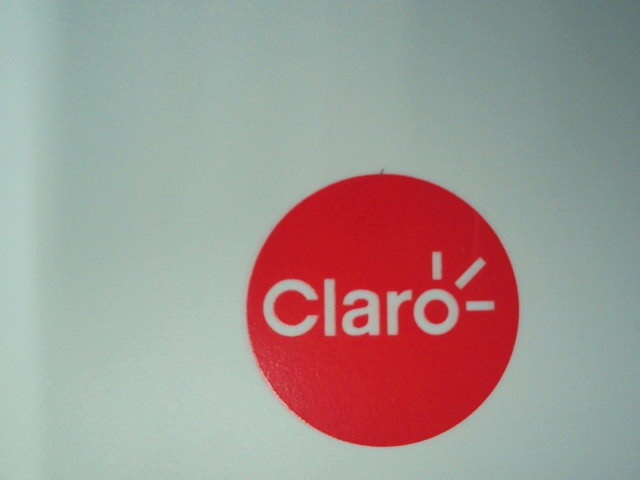BC_ClaorRed: (244, 169, 526, 450)
